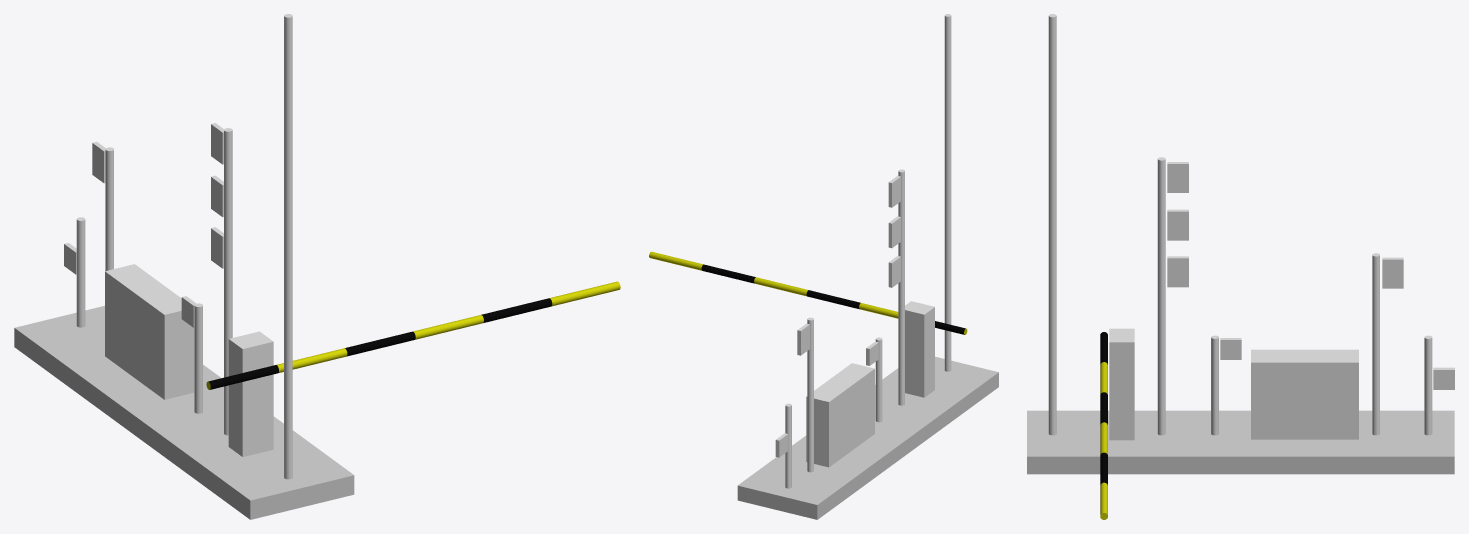
Rendered from gate.glb.
3 views of the same model, side by side, from view 1: azimuth 30°, elevation 25°; view 2: azimuth 150°, elevation 25°; view 3: azimuth 270°, elevation 25° (orthographic). The views are drawn at different scales.
Visible parts, largest first — view 1: Cube.003, Cube.007, Cube.008, Cylinder, Cylinder.005, Cylinder.001, Cylinder.004, Cylinder.003, Cylinder.002; view 2: Cube.003, Cube.007, Cylinder, Cube.008, Cylinder.005, Cylinder.001, Cylinder.004, Cylinder.002, Cylinder.003; view 3: Cube.003, Cube.007, Cylinder, Cube.008, Cylinder.001, Cylinder.005, Cylinder.004, Cylinder.003, Cylinder.002, Cube.006, Cube.004, Cube.005 (+2 smaller).
Part boxes in pixels (box(x1,y1,x2,y2)): Cube.003: box(14, 305, 354, 519); Cube.007: box(105, 264, 194, 399); Cube.008: box(228, 331, 273, 456); Cylinder: box(284, 14, 292, 479); Cylinder.005: box(206, 281, 620, 389); Cylinder.001: box(224, 128, 232, 435); Cylinder.004: box(105, 147, 113, 270); Cylinder.003: box(76, 217, 85, 327); Cylinder.002: box(194, 303, 202, 413); Cube.003: box(737, 356, 998, 519); Cube.007: box(806, 363, 874, 467); Cylinder: box(944, 14, 951, 371); Cube.008: box(905, 301, 934, 397); Cylinder.005: box(649, 251, 967, 334); Cylinder.001: box(898, 169, 904, 405); Cylinder.004: box(807, 317, 813, 472); Cylinder.002: box(875, 337, 882, 422); Cylinder.003: box(785, 403, 791, 488); Cube.003: box(1027, 410, 1454, 474); Cube.007: box(1251, 349, 1358, 439); Cylinder: box(1048, 14, 1056, 435); Cube.008: box(1109, 328, 1134, 440); Cylinder.001: box(1157, 157, 1165, 435); Cylinder.005: box(1100, 332, 1107, 519); Cylinder.004: box(1372, 253, 1379, 435); Cylinder.003: box(1424, 335, 1432, 435); Cylinder.002: box(1211, 335, 1218, 435); Cube.006: box(1382, 257, 1403, 288); Cube.004: box(1167, 256, 1188, 287); Cube.005: box(1167, 209, 1188, 240).
Size of the model in its own units: 795 by 891 by 792.
